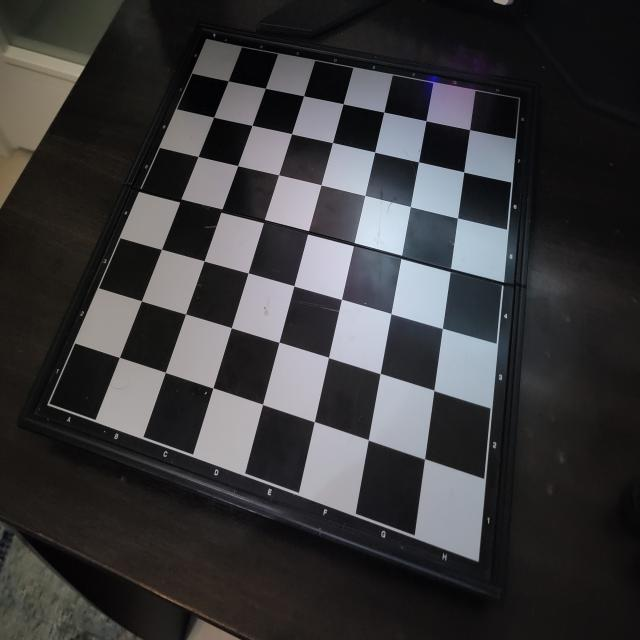chess-board: (39, 27, 532, 580)
